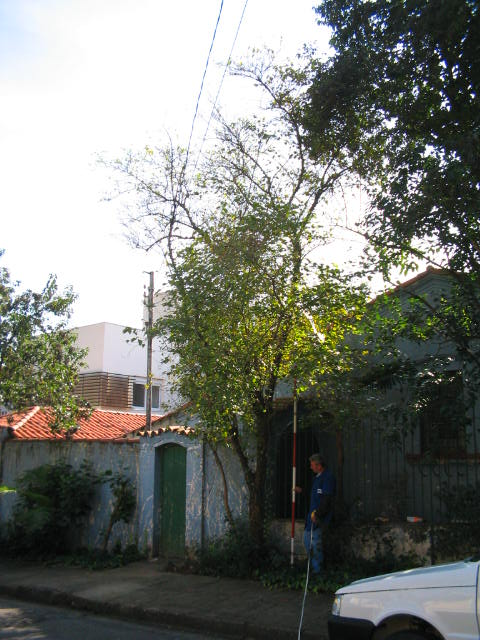crown: (90, 50, 380, 459)
stem: (236, 480, 280, 579)
stick: (284, 364, 302, 573)
tree: (87, 48, 383, 581)
